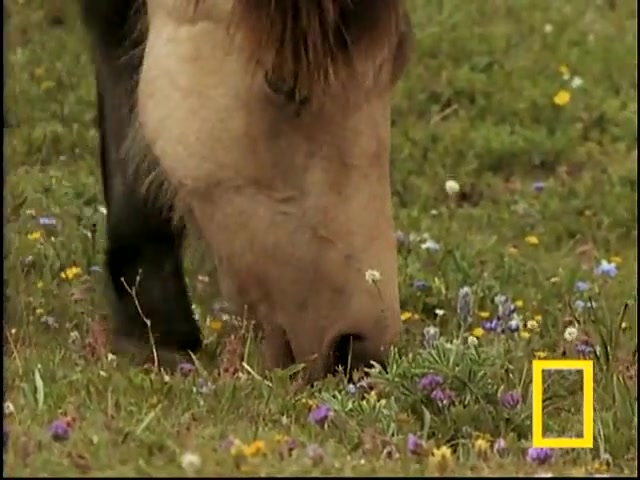horse: (78, 3, 414, 384)
